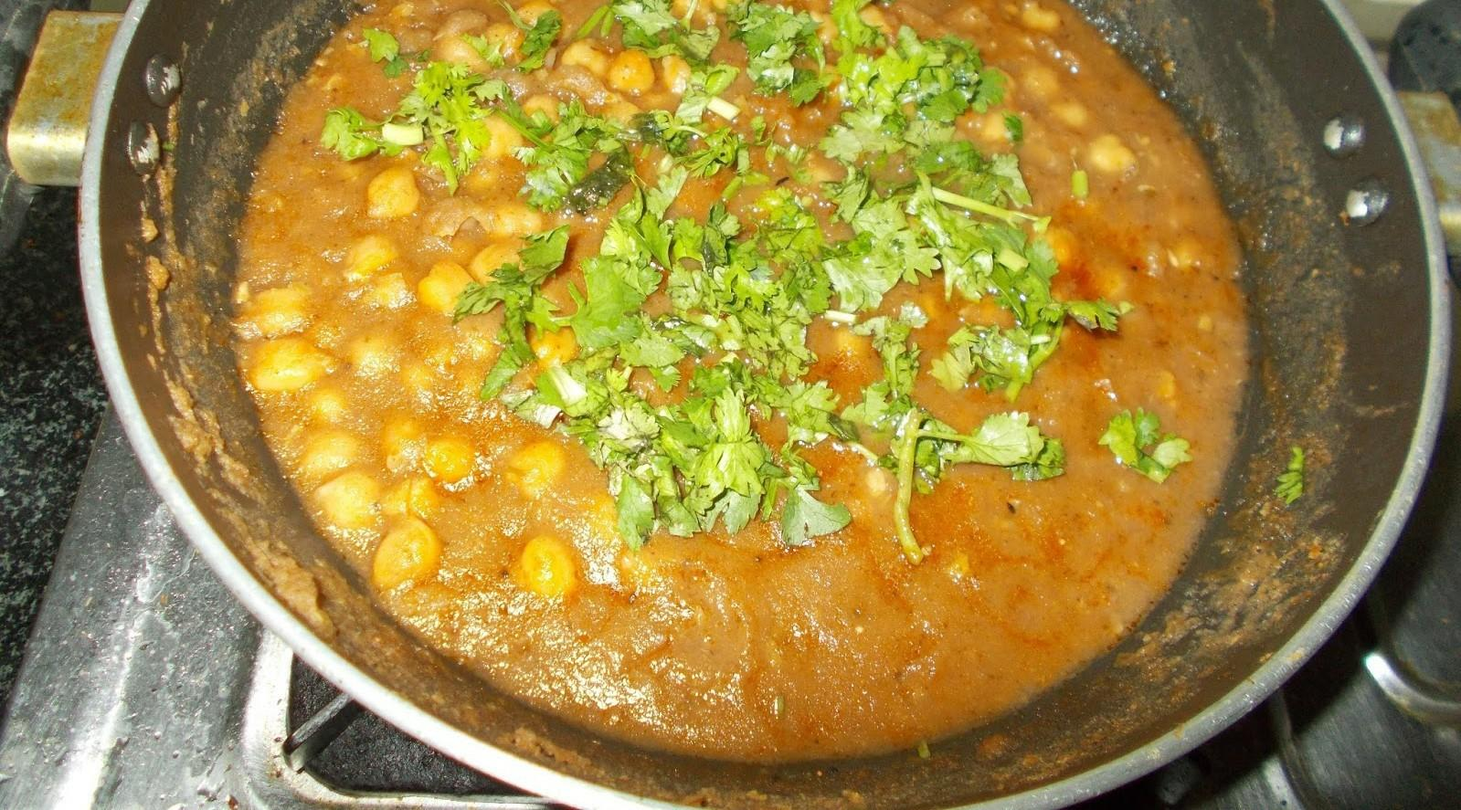Chole: (233, 0, 1246, 763)
